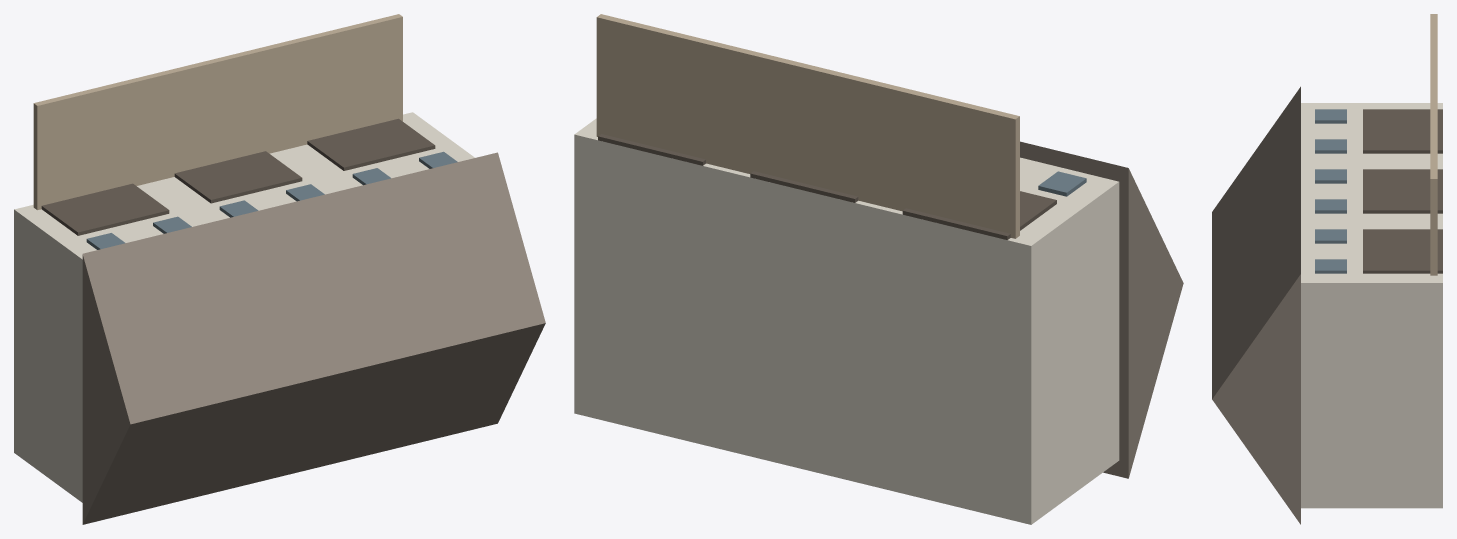
File: r-106-narragansett-boat-club.glb
3 renders of one model, left to right at view 1: azimuth 30°, elevation 25°; view 2: azimuth 150°, elevation 25°; view 3: azimuth 270°, elevation 25°, orthographic. The views are drawn at different scales.
Parts seen in each view (by area): view 1: roof, dock, walls, bay-doors, windows; view 2: walls, dock, roof, bay-doors, windows; view 3: walls, roof, bay-doors, windows, dock.
Boxes of the visible parts, bbox=[...] form: roof: bbox=[82, 152, 545, 524]; dock: bbox=[33, 14, 402, 210]; walls: bbox=[14, 112, 474, 502]; bay-doors: bbox=[41, 118, 435, 235]; windows: bbox=[86, 151, 457, 249]; walls: bbox=[574, 118, 1119, 524]; dock: bbox=[596, 14, 1019, 238]; roof: bbox=[1020, 141, 1183, 478]; bay-doors: bbox=[598, 134, 1056, 239]; windows: bbox=[1038, 171, 1086, 196]; walls: bbox=[1301, 103, 1442, 508]; roof: bbox=[1212, 86, 1300, 524]; bay-doors: bbox=[1363, 109, 1442, 273]; windows: bbox=[1315, 109, 1346, 273]; dock: bbox=[1430, 14, 1437, 275].
Size of the model in its own units: 25000 by 20800 by 12999.
